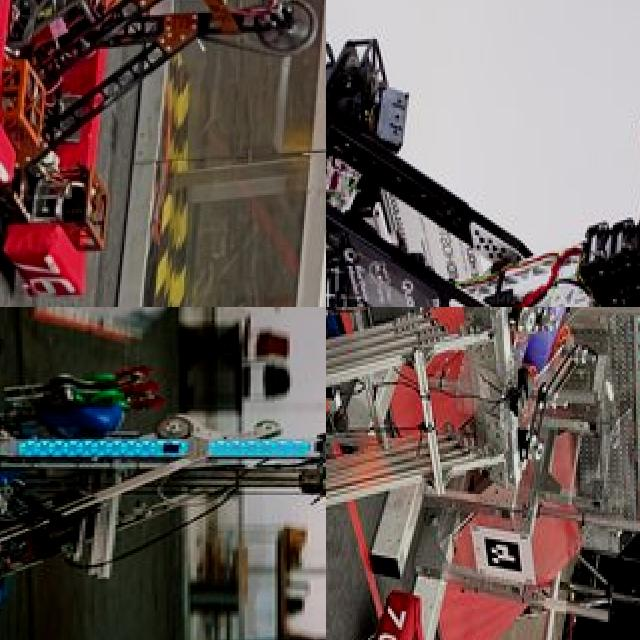FRC-Robots: (326, 0, 640, 307), (326, 307, 587, 640), (0, 360, 326, 612), (0, 0, 326, 205), (347, 579, 455, 640)
